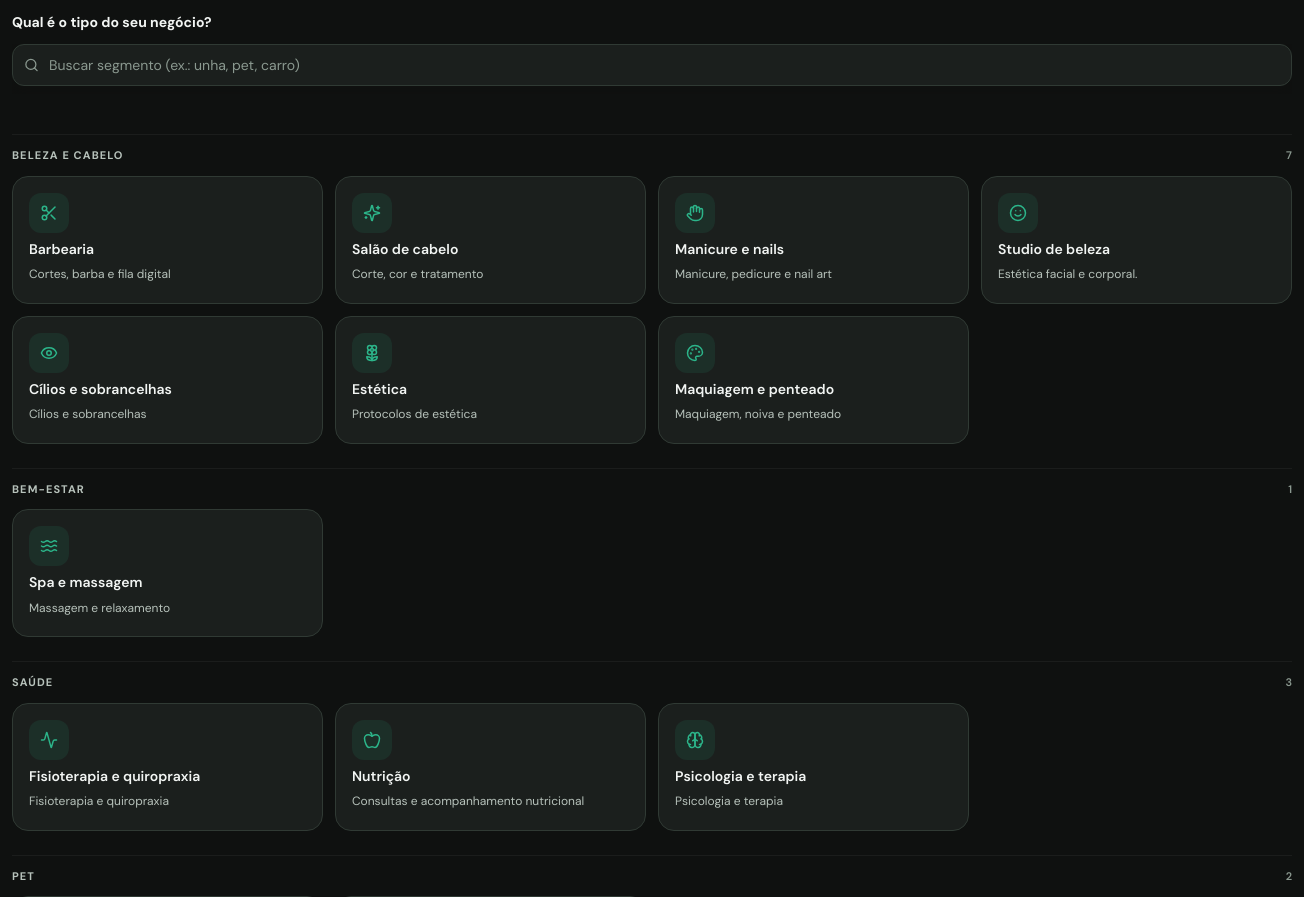
Test: SegmentPicker › busca "unha" destaca Manicure e mantém "Outro" visível
Type "unha" into the search field.
click(652, 65); type("unha")  # box left=12, top=44, right=1292, bottom=86
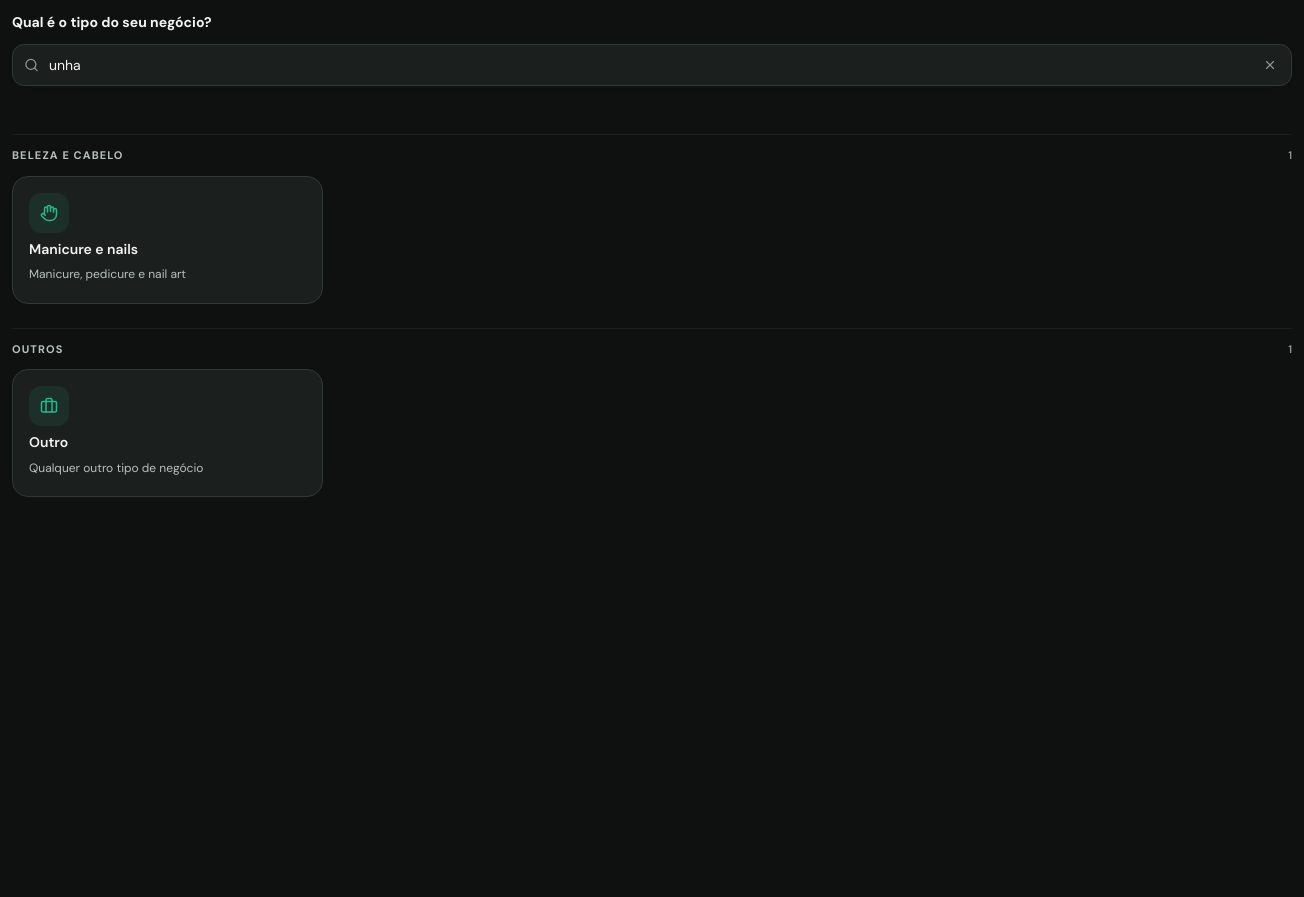
Expected: the radio button labelled "Manicure e nails Manicure, pedicure e nail art" is shown, left=12, top=176, right=323, bottom=304
Now the radio button labelled "Barbearia" is gone
